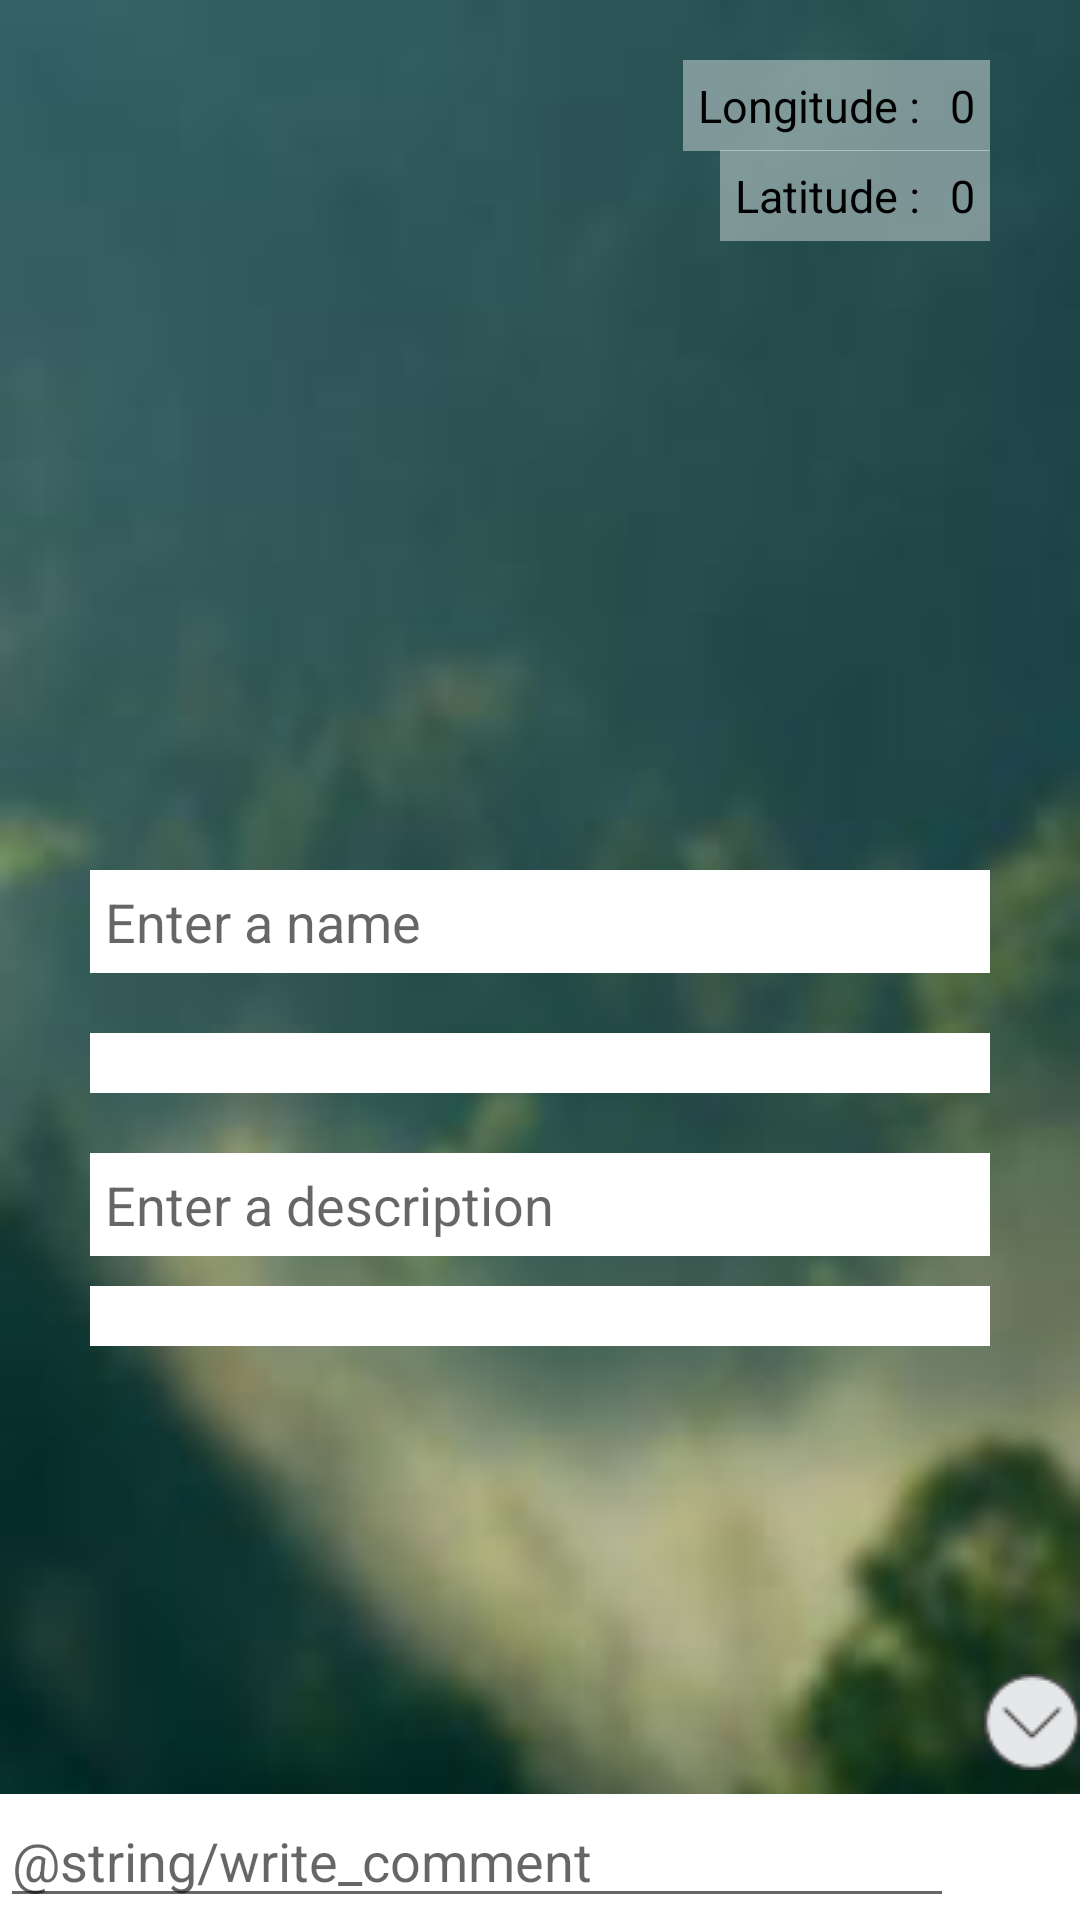

Screen size 1080px×1920px. Icon name, then its box in pixels as (x1, y1, x2, y2):
arrow down: (984, 1674, 1080, 1770)
